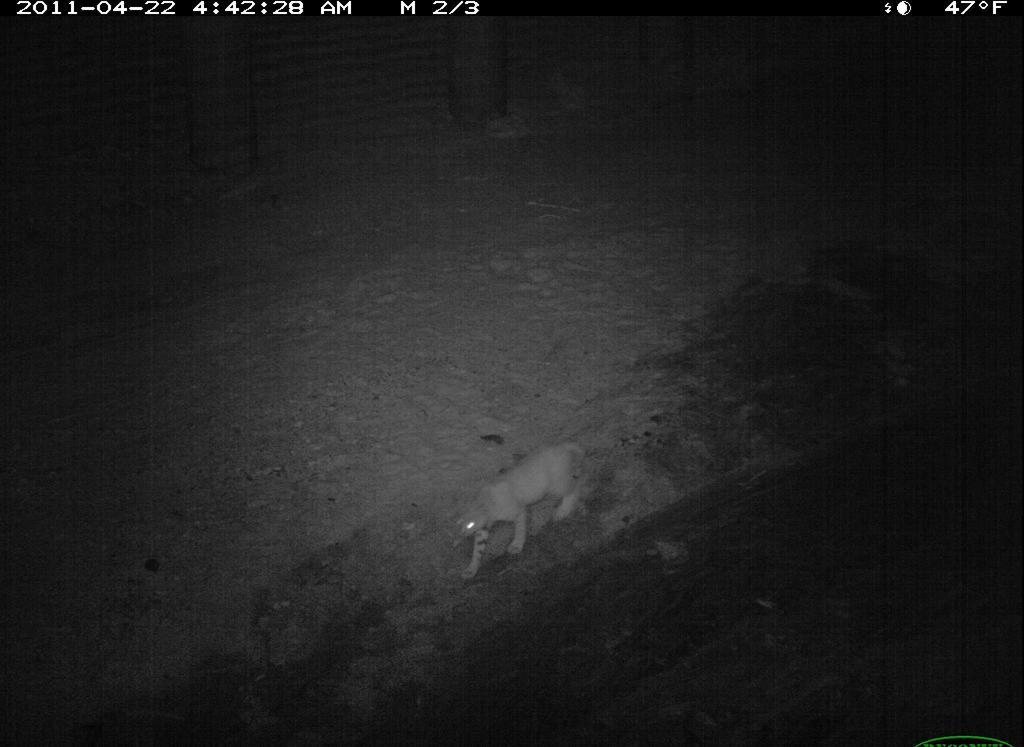bobcat: (438, 427, 607, 588)
